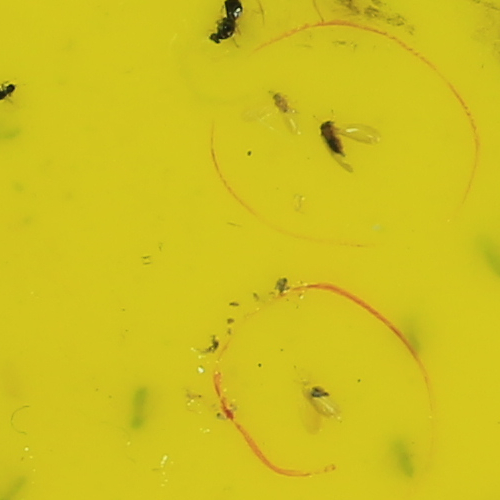psylla: (320, 121, 346, 160)
